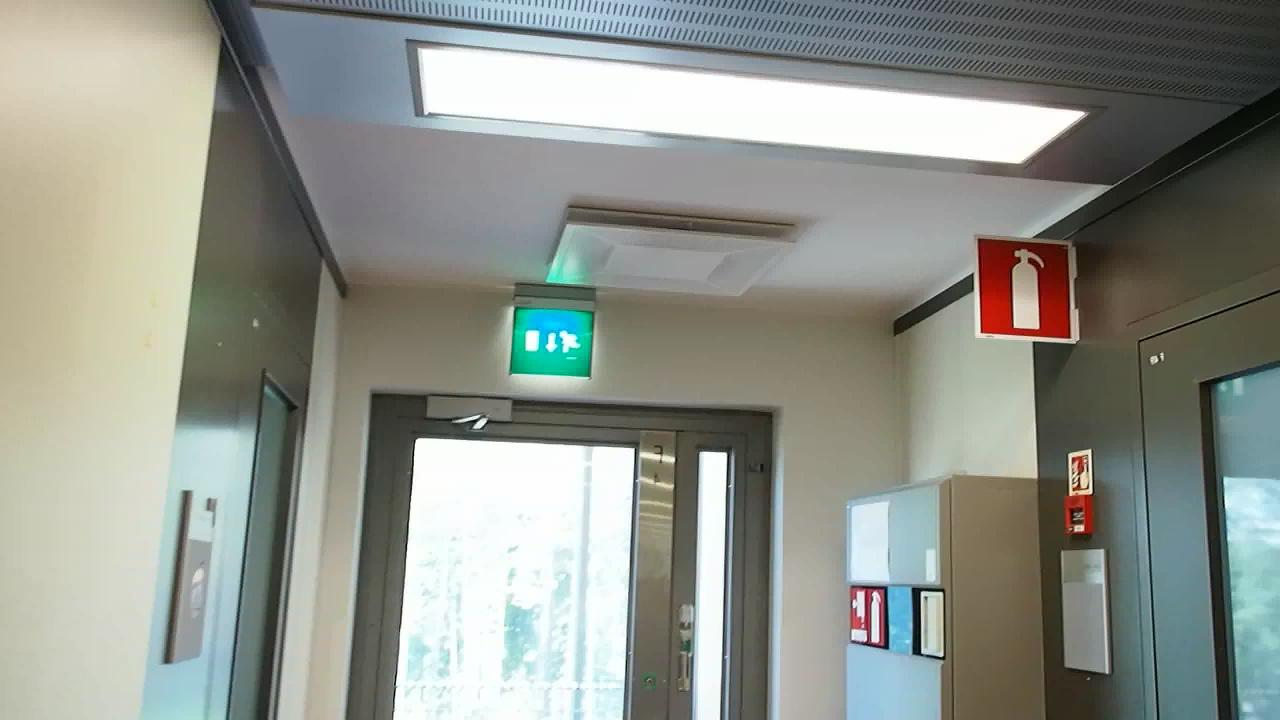exit: (507, 309, 597, 381)
fireextinguisher: (981, 238, 1074, 344)
